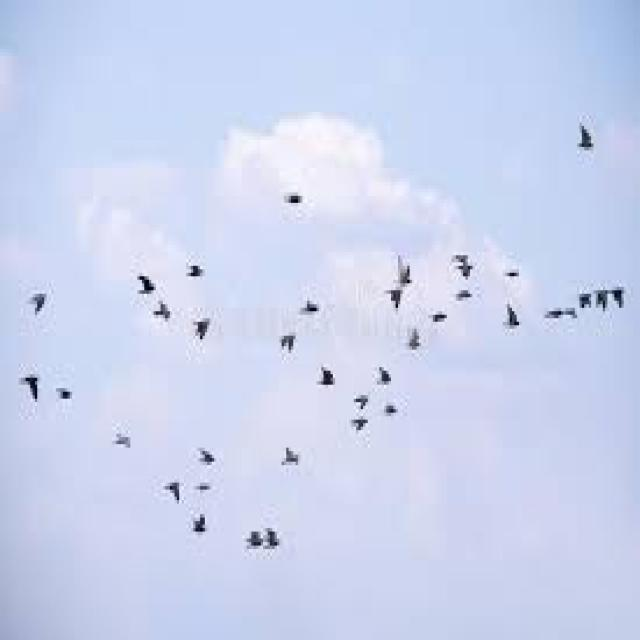bird: (15, 274, 64, 344), (272, 423, 314, 486), (188, 416, 225, 479), (491, 294, 535, 339), (566, 106, 600, 160), (126, 252, 163, 301), (188, 306, 222, 358), (308, 356, 346, 398), (20, 353, 46, 413), (388, 230, 416, 284), (400, 314, 430, 364), (178, 244, 215, 284), (268, 314, 300, 360), (106, 412, 141, 454), (184, 500, 214, 546), (450, 238, 480, 283), (56, 374, 88, 416), (159, 473, 192, 512), (298, 283, 330, 322), (238, 514, 262, 560), (374, 280, 408, 312), (145, 296, 178, 328), (286, 173, 310, 215), (260, 512, 284, 554), (348, 412, 376, 444), (592, 278, 614, 317), (427, 300, 453, 332), (574, 285, 600, 317), (610, 274, 630, 314), (374, 358, 399, 386), (349, 384, 370, 412), (450, 285, 480, 303), (196, 476, 218, 496), (380, 402, 400, 420)
